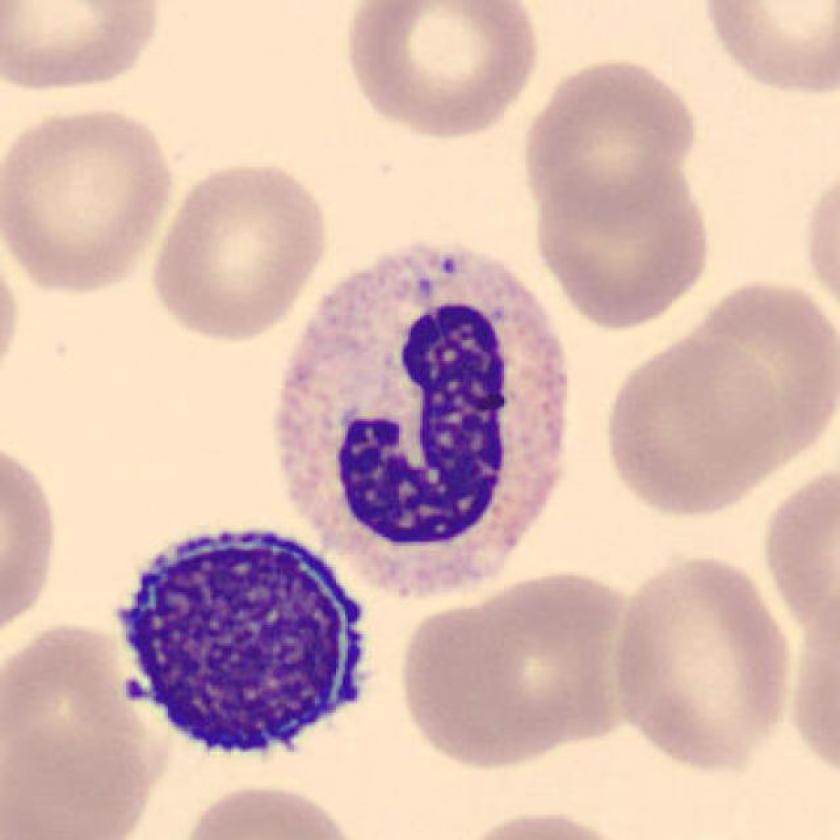neutrophil: (279, 245, 571, 597)
